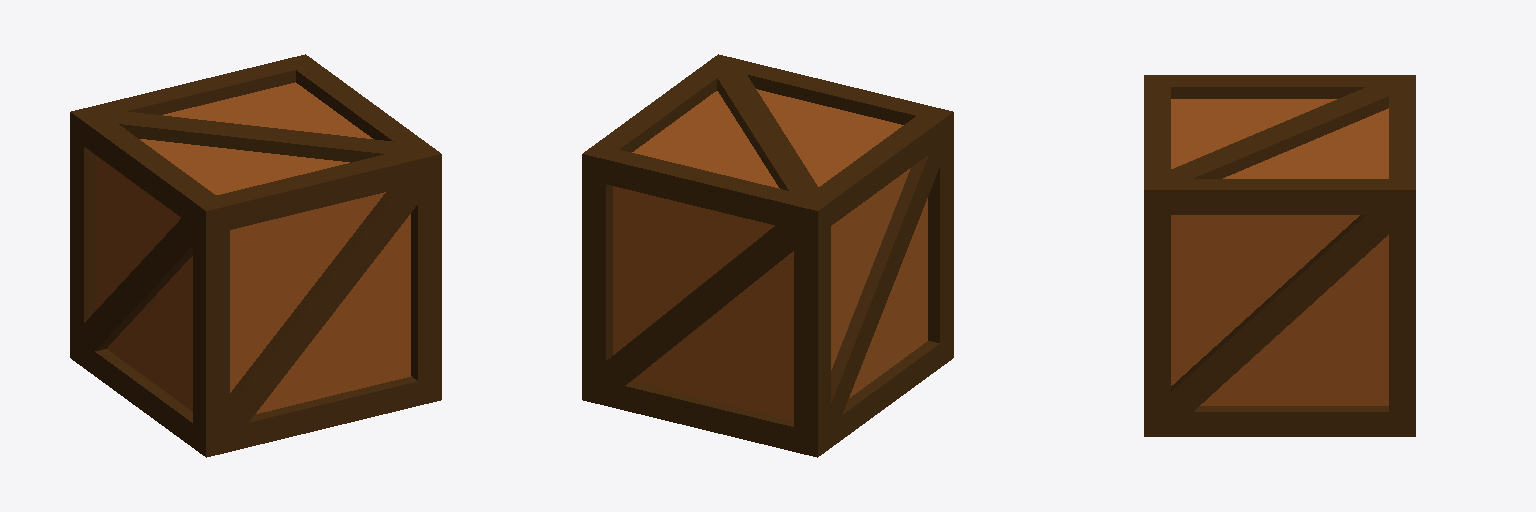
The model's file is Caisse.obj.
The picture shows the model from 3 angles: view 1: azimuth 30°, elevation 25°; view 2: azimuth 150°, elevation 25°; view 3: azimuth 270°, elevation 25°; orthographic projection.
Visible parts, largest first — view 1: Cube_Cube.001; view 2: Cube_Cube.001; view 3: Cube_Cube.001.
Boxes of the visible parts, x1=… form: Cube_Cube.001: x1=70, y1=54, x2=441, y2=457; Cube_Cube.001: x1=582, y1=54, x2=953, y2=457; Cube_Cube.001: x1=1144, y1=75, x2=1415, y2=436.
Bounding box in the file's own units: 2 × 2 × 2.